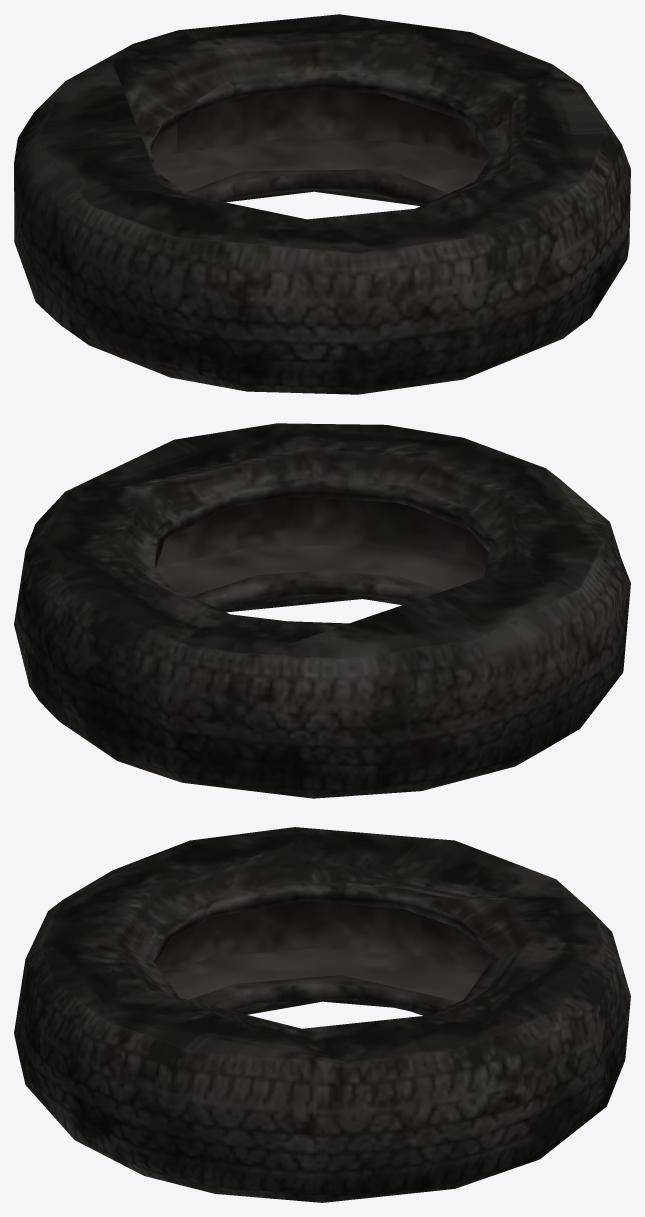
Rendered from tyre.glb.
The picture shows the model from 3 angles, top to bottom: view 1: azimuth 30°, elevation 25°; view 2: azimuth 150°, elevation 25°; view 3: azimuth 270°, elevation 25°; orthographic projection.
Visible parts, largest first — view 1: old_tyre; view 2: old_tyre; view 3: old_tyre.
Boxes of the visible parts, x1=… form: old_tyre: x1=14, y1=14, x2=630, y2=394; old_tyre: x1=14, y1=423, x2=630, y2=798; old_tyre: x1=14, y1=827, x2=630, y2=1202.
Size of the model in its own units: 0.5942 by 0.161 by 0.6.
Materials: 1 (1 with a texture image).
